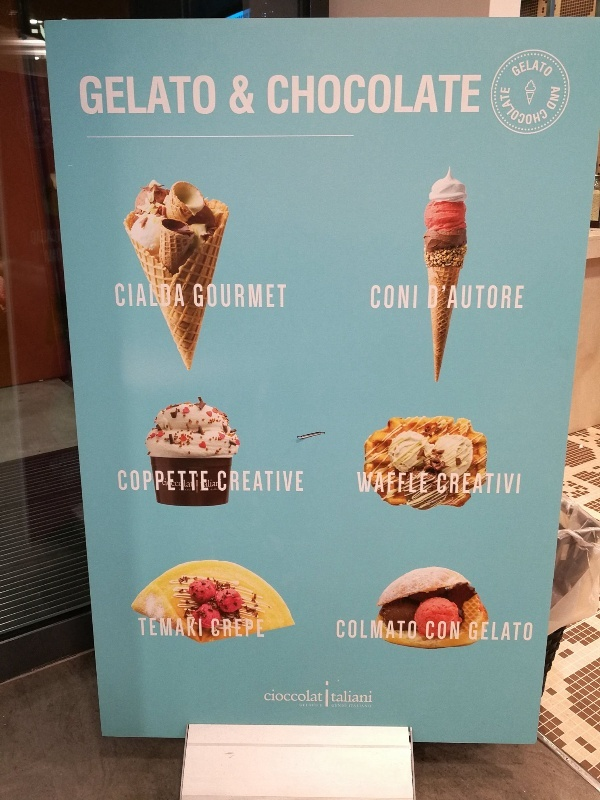text: (81, 69, 96, 119), (97, 69, 112, 119), (113, 69, 128, 119), (129, 69, 144, 119), (145, 69, 160, 119), (161, 69, 176, 119), (177, 69, 192, 119), (193, 69, 208, 119), (209, 69, 224, 119), (225, 69, 240, 119), (241, 69, 256, 119), (257, 69, 272, 119), (273, 69, 288, 119), (289, 69, 304, 119), (305, 69, 320, 119), (321, 69, 336, 119), (337, 69, 352, 119), (353, 69, 368, 119), (369, 69, 384, 119), (385, 69, 400, 119), (401, 69, 416, 119), (417, 69, 432, 119), (433, 69, 448, 119), (449, 69, 464, 119), (465, 69, 480, 119), (497, 86, 512, 127), (513, 86, 528, 127), (529, 86, 544, 127), (433, 278, 448, 317), (449, 278, 464, 317), (465, 278, 480, 317), (481, 278, 496, 317), (497, 278, 512, 317), (513, 278, 528, 317), (433, 467, 448, 506), (449, 467, 464, 506), (465, 467, 480, 506), (481, 467, 496, 506), (497, 467, 512, 506), (385, 278, 400, 316), (401, 278, 416, 316), (369, 467, 384, 505), (385, 467, 400, 505), (401, 467, 416, 505), (273, 277, 289, 312), (289, 466, 305, 500), (370, 278, 384, 316), (354, 467, 368, 505), (417, 467, 431, 505), (193, 277, 208, 312), (209, 277, 224, 312), (225, 277, 240, 312), (241, 277, 256, 312), (257, 277, 272, 312), (225, 466, 240, 500), (241, 466, 256, 500), (257, 466, 272, 500), (273, 466, 288, 500), (513, 467, 526, 506), (129, 279, 144, 312), (145, 279, 160, 312), (161, 279, 176, 312), (209, 614, 224, 647), (225, 614, 240, 647), (241, 614, 256, 647), (481, 614, 496, 647), (497, 614, 512, 647), (513, 614, 528, 647), (129, 466, 144, 498), (145, 466, 160, 498), (161, 466, 176, 498), (177, 466, 192, 498), (193, 466, 208, 498), (337, 614, 352, 645), (353, 614, 368, 645), (369, 614, 384, 645), (385, 614, 400, 645), (401, 614, 416, 645), (114, 279, 128, 312), (145, 614, 160, 644), (161, 614, 176, 644), (177, 614, 192, 644), (433, 617, 448, 645), (545, 86, 554, 127), (449, 617, 462, 645), (193, 614, 205, 644), (117, 466, 128, 498), (257, 614, 267, 647), (470, 614, 480, 647), (550, 84, 560, 115), (325, 681, 336, 709), (177, 279, 186, 312), (513, 59, 528, 78), (529, 59, 544, 78), (216, 466, 224, 500), (545, 59, 559, 78), (529, 614, 537, 647), (136, 614, 144, 644), (337, 690, 352, 705), (353, 690, 368, 705), (424, 617, 432, 645), (481, 69, 485, 119), (273, 690, 288, 703), (289, 690, 304, 703), (305, 690, 320, 703), (561, 84, 567, 115), (429, 278, 432, 317), (417, 278, 420, 316), (78, 69, 80, 119), (209, 466, 212, 498), (265, 690, 272, 703), (305, 703, 320, 709), (337, 704, 352, 710), (353, 704, 368, 710), (331, 690, 336, 705), (417, 614, 419, 645), (369, 690, 373, 705), (509, 59, 512, 78), (335, 614, 336, 645), (321, 690, 323, 703), (300, 703, 304, 709), (332, 704, 336, 710), (369, 704, 371, 710), (321, 703, 322, 709)
